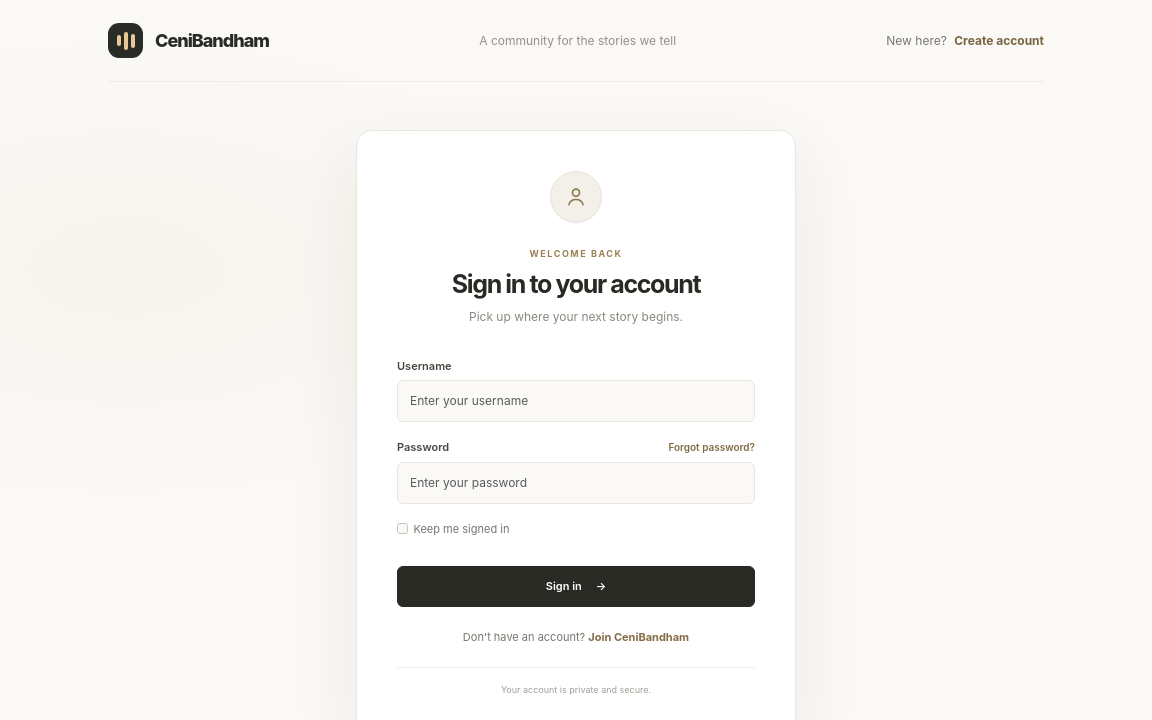
Test case: Login › submits password recovery through the shared API client
Type "actor_rao" into the field labelled "Username".
click(576, 401); type("actor_rao")  # box [397,380,755,422]
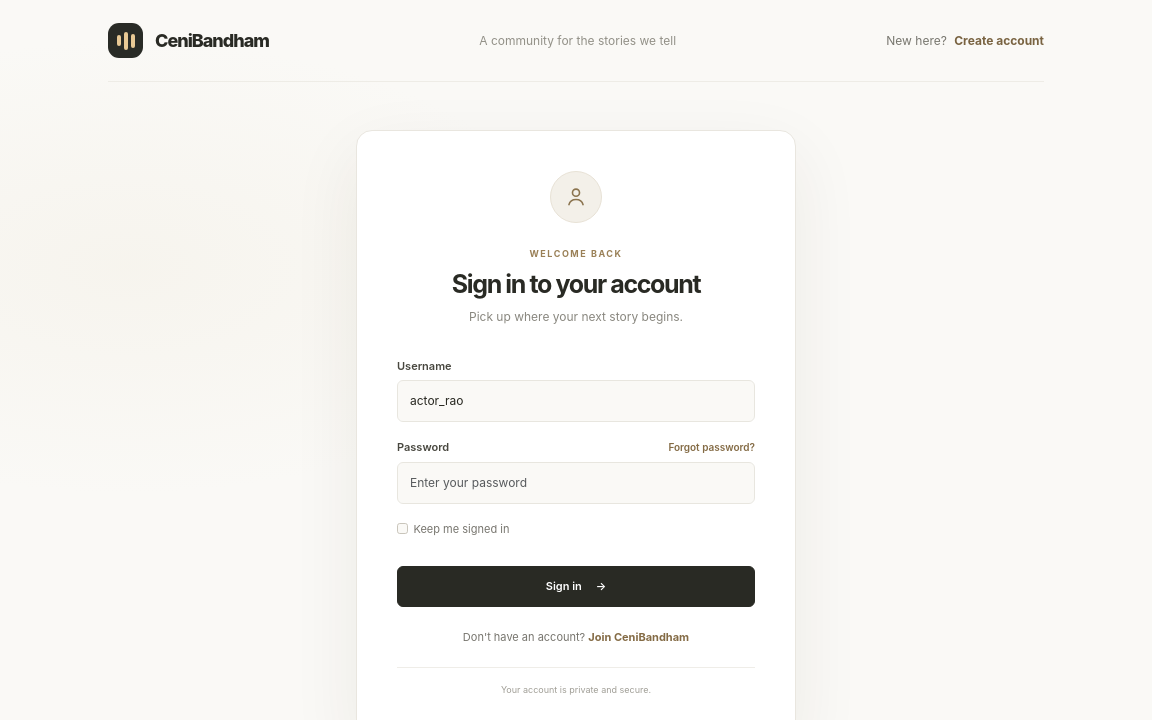
Click the button "Forgot password?".
click(712, 448)  # box [668,440,755,455]
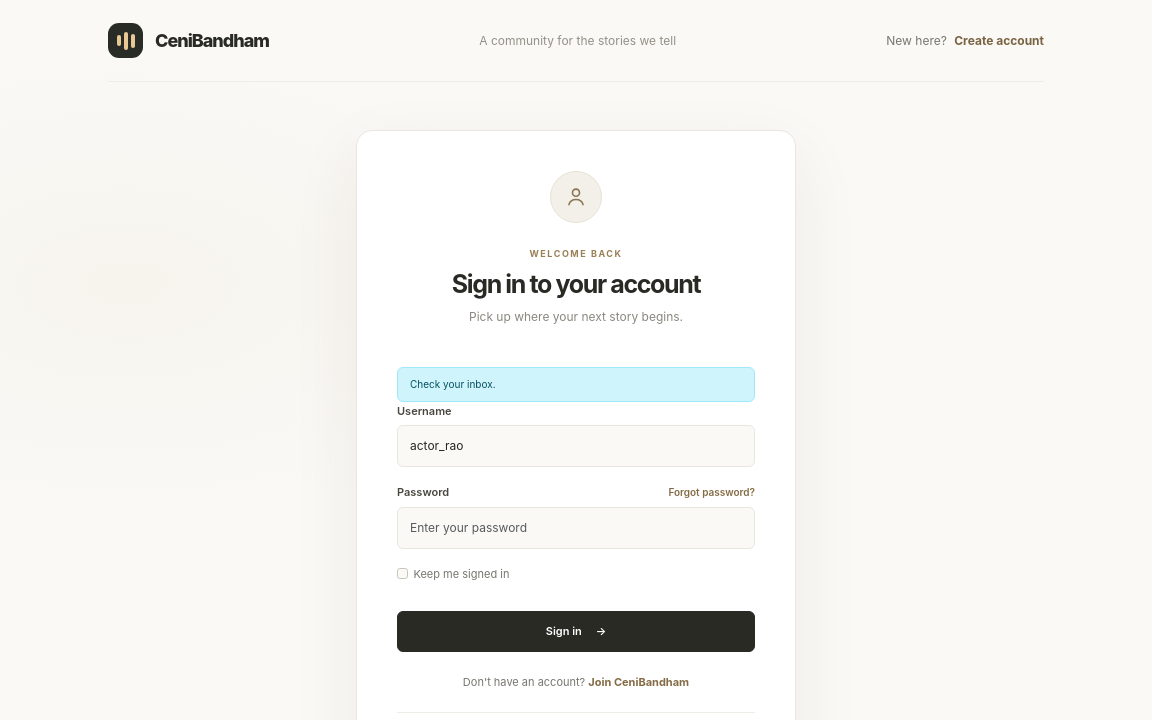
Result: the message reads "Check your inbox." at [410,378,496,390]
